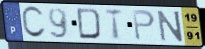9: (48, 7, 70, 39)
C: (20, 5, 48, 40)
D: (76, 7, 103, 41)
N: (156, 9, 185, 43)
P: (131, 9, 157, 42)
T: (104, 8, 124, 41)
